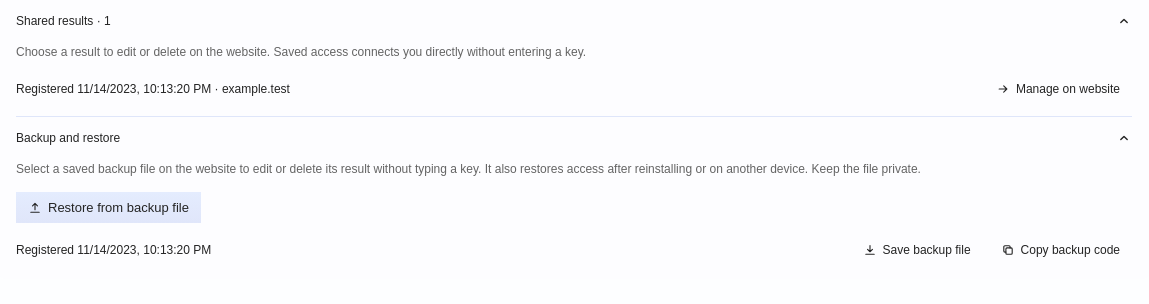
Scenario: owned recovery list › explains a submission_deleted connection failure without displaying native details
Step 1. Click the button "Manage on website" → (1058, 89), box x1=984 y1=74 x2=1132 y2=104
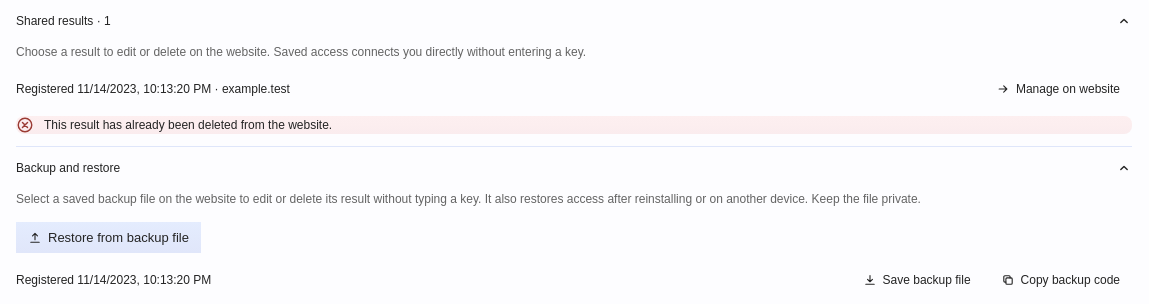
expect the message reads "This result has already been deleted from the website.": met, box x1=44 y1=118 x2=332 y2=132
